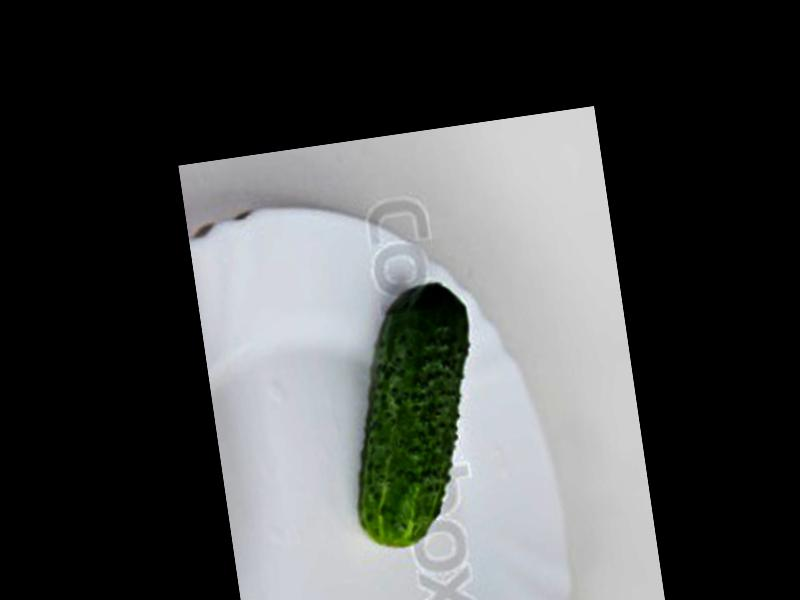Cucumber: (328, 282, 497, 550)
